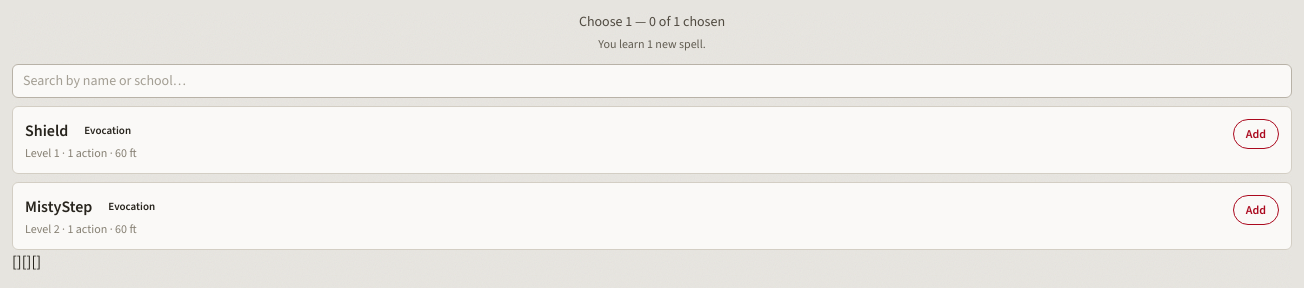
it: NewSpellsStep › hard-caps selection at the count (the N+1th is disabled)
Click the button with aria-label "Add Shield".
click(1256, 134)  # box x1=1233 y1=119 x2=1279 y2=149
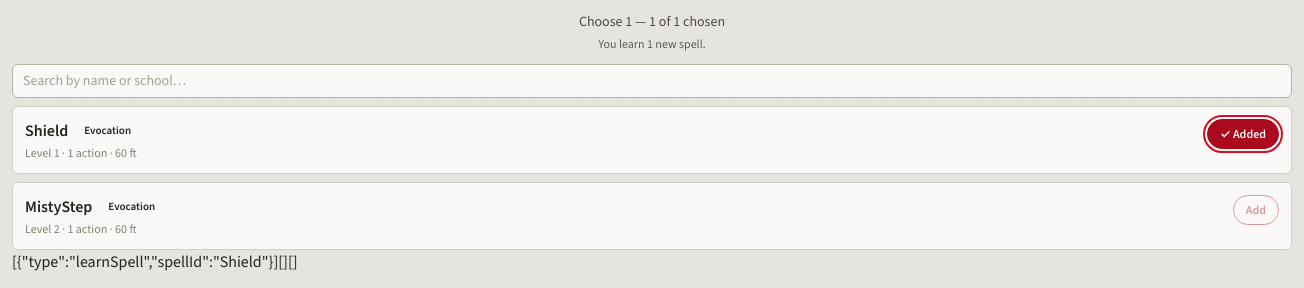
Expected: the text "Choose 1 — 1 of 1 chosen" is shown, x1=579 y1=12 x2=725 y2=31
Expected: the button with aria-label "Add MistyStep" is disabled, x1=1233 y1=195 x2=1279 y2=225
